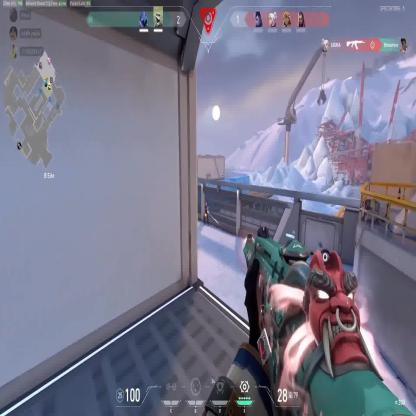enemy: (204, 200, 209, 225)
enemy_head: (205, 200, 207, 208)
